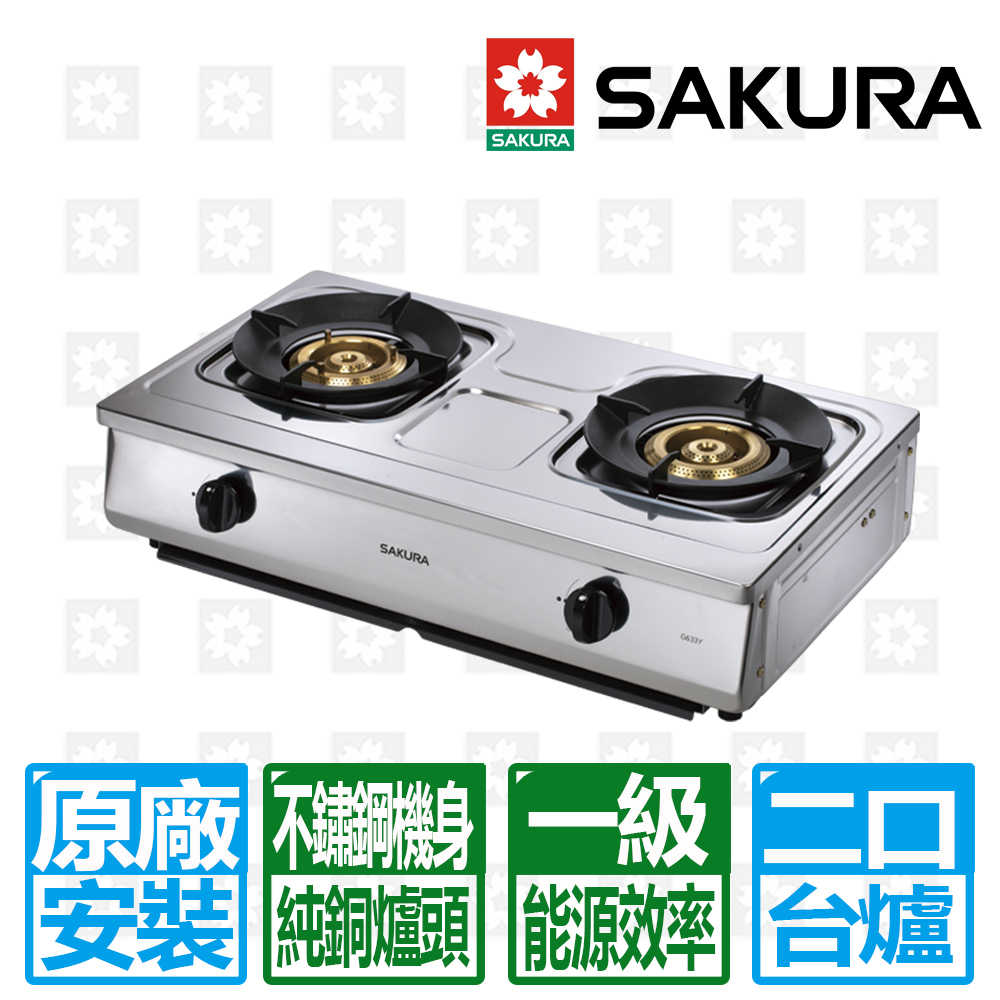gasoven: (79, 255, 926, 726)
